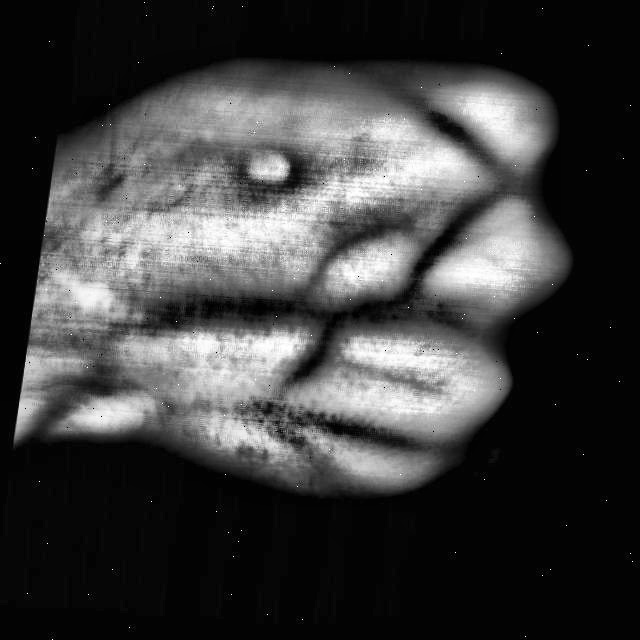Vein: (119, 290, 333, 342)
